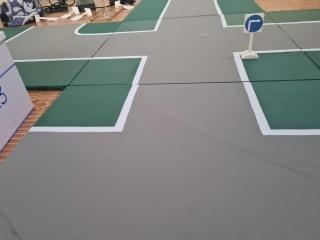right: (242, 8, 265, 34)
